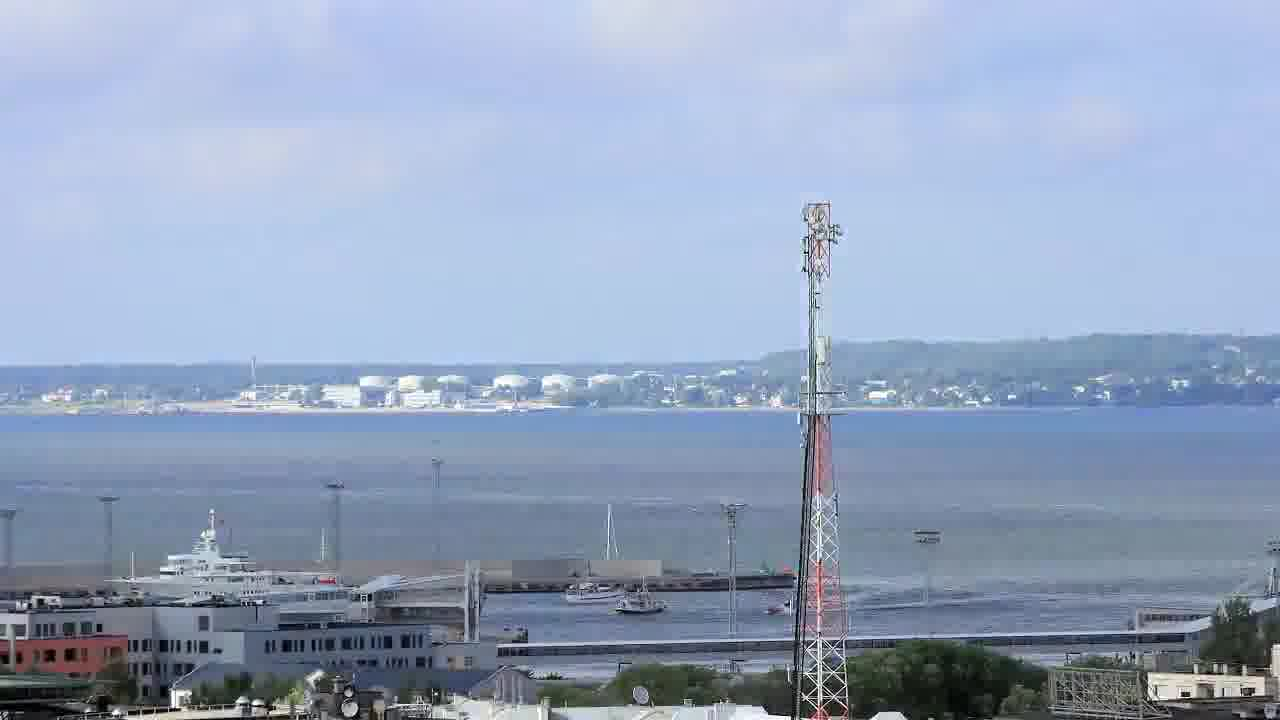type-0: (614, 589, 680, 623)
type-1: (547, 569, 639, 606)
type-4: (758, 593, 800, 625)
